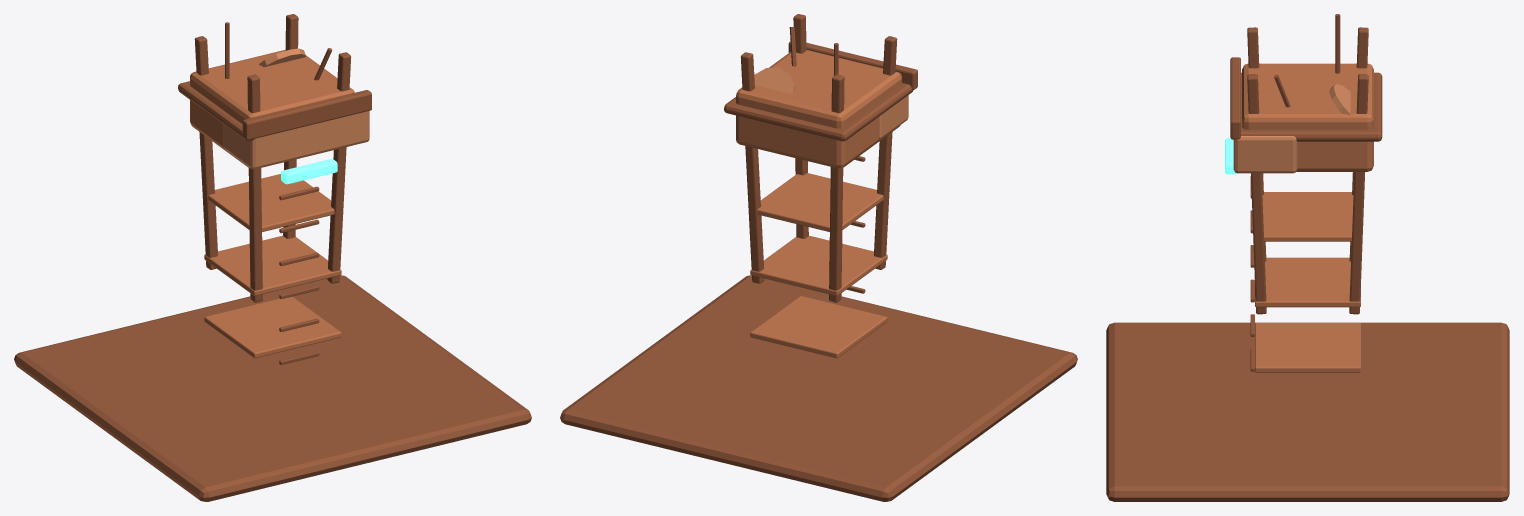
Rendered from sod_watch_post.glb.
3 views of the same model, side by side, from view 1: azimuth 30°, elevation 25°; view 2: azimuth 150°, elevation 25°; view 3: azimuth 270°, elevation 25° (orthographic). The views are drawn at different scales.
Visible parts, largest first — view 1: sod_watch_post; view 2: sod_watch_post; view 3: sod_watch_post.
Boxes of the visible parts, <box> form: sod_watch_post: <box>14,14,531,501</box>; sod_watch_post: <box>560,14,1077,501</box>; sod_watch_post: <box>1106,14,1509,501</box>.
Size of the model in its own units: 1.9 by 2.02 by 1.9.
